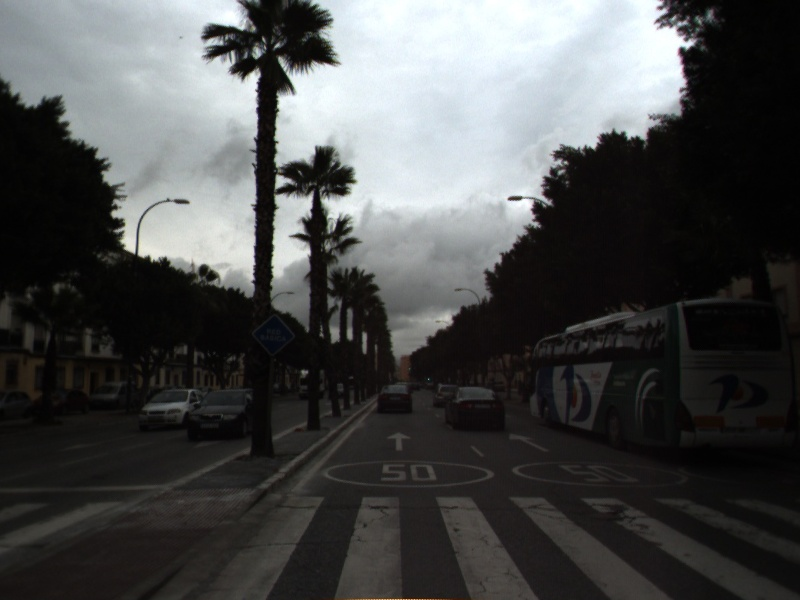STRAIGHT: (507, 431, 552, 454), (385, 430, 414, 453)
